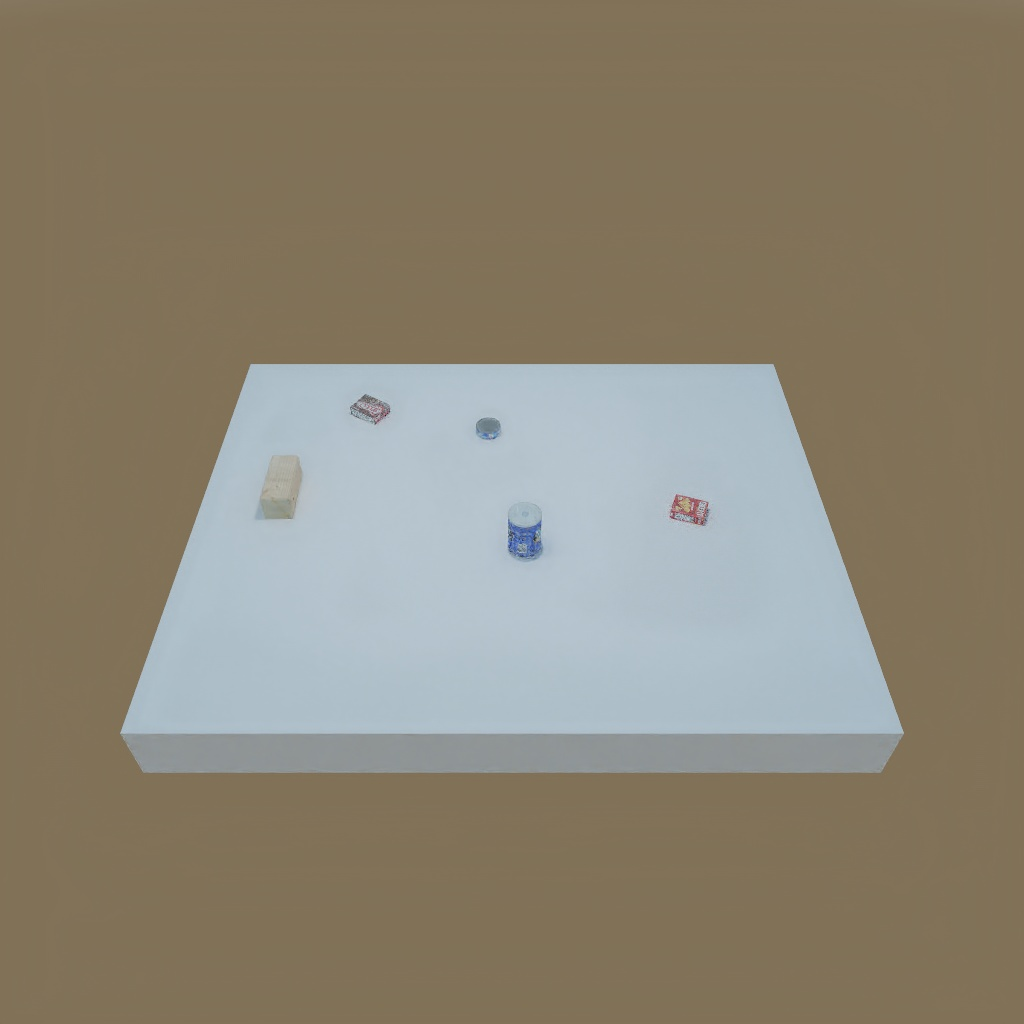master_chef_can: (503, 502, 545, 561)
pudding_box: (348, 394, 389, 426)
wood_block: (255, 453, 307, 524)
